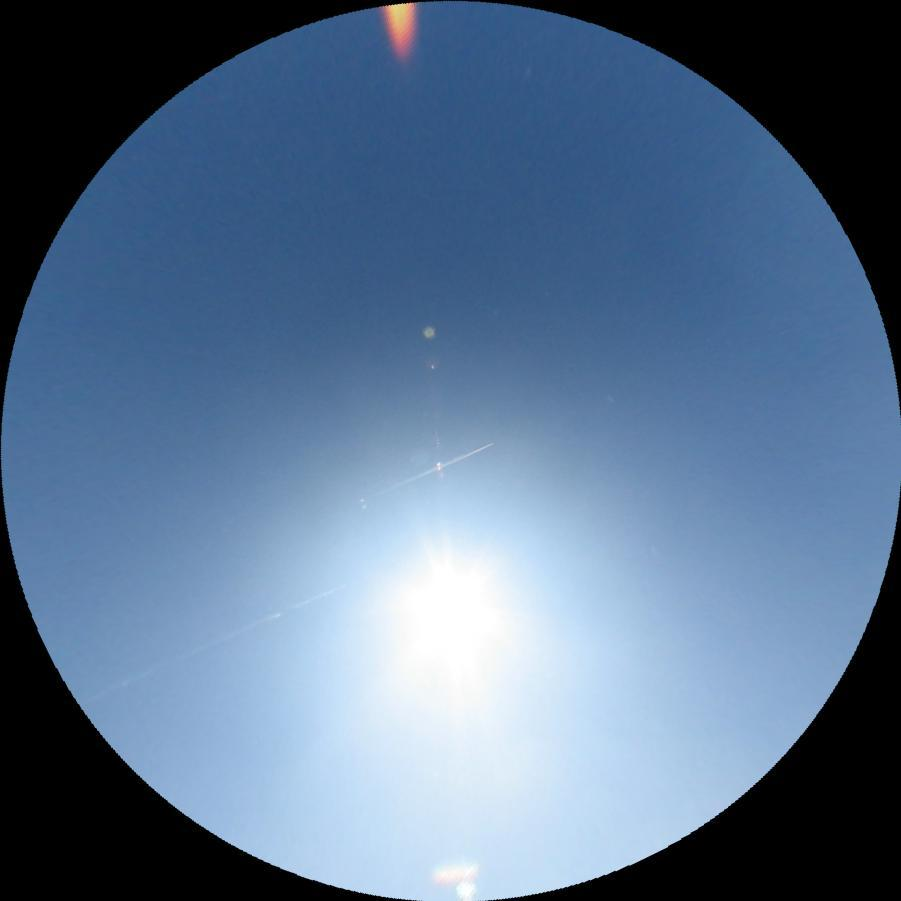contrail young: (392, 439, 495, 488)
parasite: (74, 578, 350, 707)
sun: (377, 544, 516, 686)
